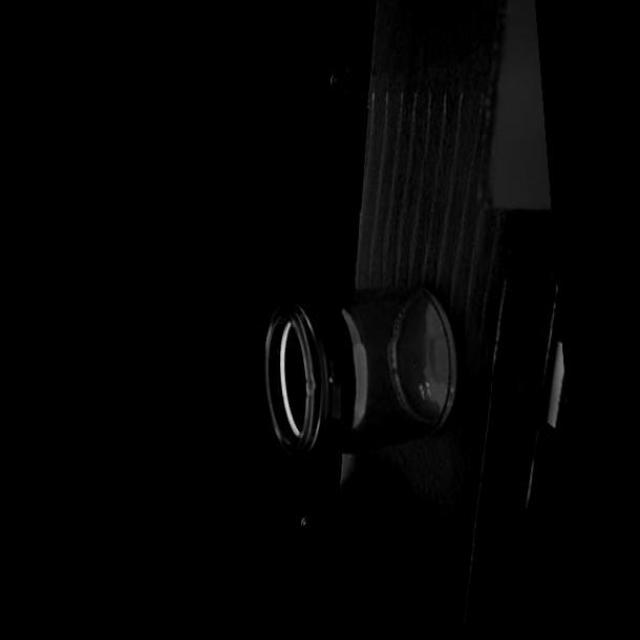defect: (304, 370, 318, 395), (327, 372, 335, 382)
glass: (254, 270, 463, 468)
